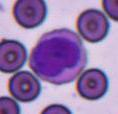M: (30, 28, 88, 84)
